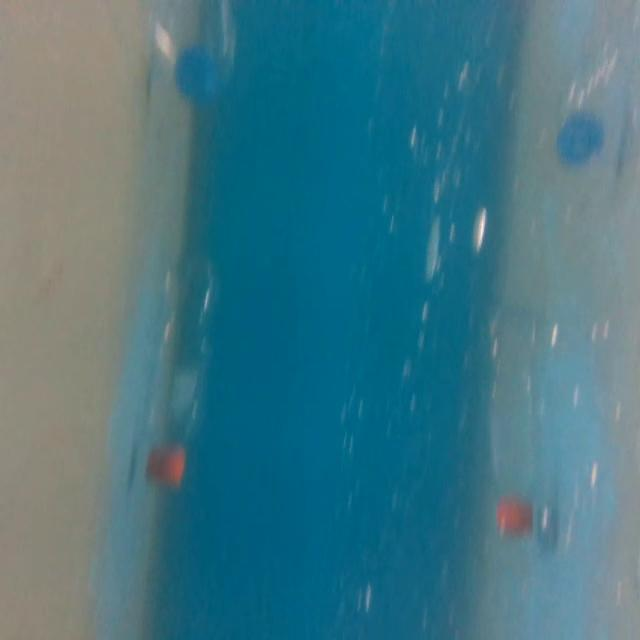plastic bottle: (141, 247, 224, 501), (140, 0, 246, 99)
